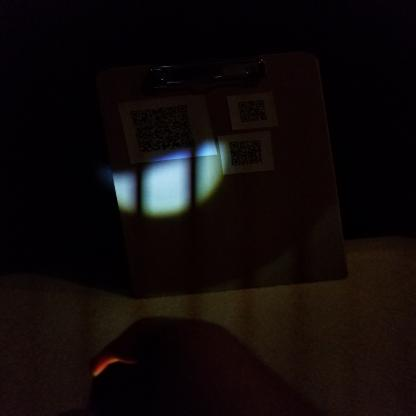qr: (128, 104, 200, 158), (234, 96, 272, 124), (227, 138, 265, 166)
